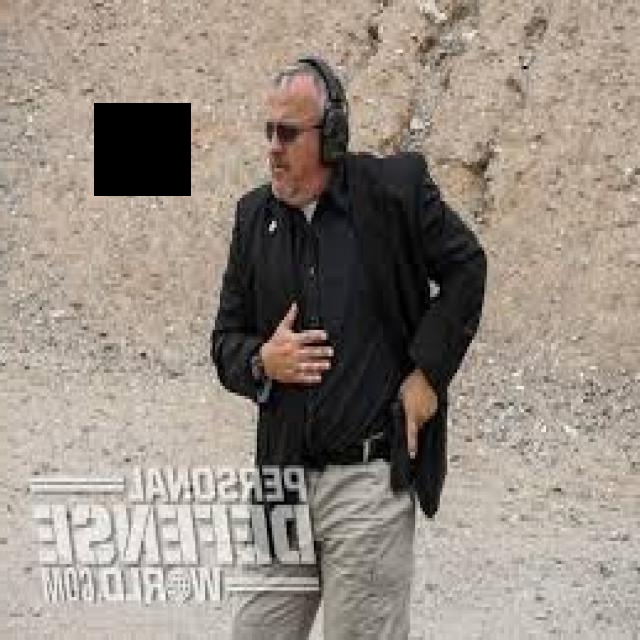gun: (375, 372, 454, 508)
